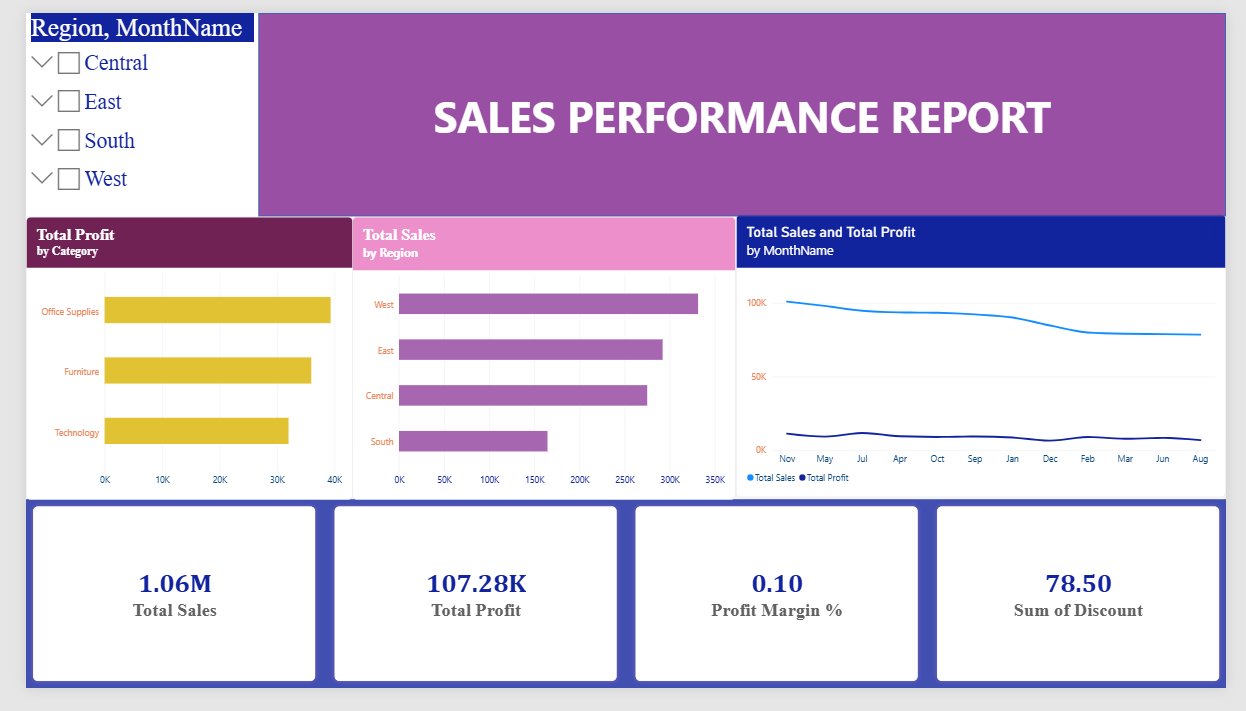

What the dashboard file says about the page in this screenshot:
{"tool":"powerbi","page":{"name":"Page 1","canvas":[1920,1080],"ordinal":0},"visuals":[{"type":"cardVisual","fields":{"Data":["fact_sales.Total Sales","fact_sales.Total Profit","fact_sales.Profit Margin %","Sum(fact_sales.Discount)"]},"box":[0,778,1920.4,302.6],"z":0},{"type":"lineChart","fields":{"Category":["Dim_Date.MonthName"],"Y":["fact_sales.Total Sales","fact_sales.Total Profit"]},"box":[1135.8,321.1,784.2,452.8],"z":1},{"type":"clusteredBarChart","fields":{"Category":["fact_sales.Region"],"Y":["fact_sales.Total Sales"]},"box":[522.8,325.2,613.4,452.8],"z":2},{"type":"clusteredBarChart","fields":{"Category":["fact_sales.Category"],"Y":["fact_sales.Total Profit"]},"box":[0,325.2,522.8,452.8],"z":3},{"type":"slicer","fields":{"Values":["fact_sales.Region","Dim_Date.MonthName"]},"box":[0,0,372.6,325.2],"z":4},{"type":"textbox","box":[551.6,84.4,1292.6,123.5],"z":5},{"type":"shape","box":[372.6,0,1547.9,325.2],"z":6}]}

Visuals, with their boxes in screenshot pixels (x1, y1, x2, y2), scaled from the page's 1920x1080 canvas onto the 1246x711 screenshot:
cardVisual - fact_sales.Total Sales x fact_sales.Total Profit: [x1=0, y1=512, x2=1245, y2=710]
lineChart - Dim_Date.MonthName x fact_sales.Total Sales: [x1=737, y1=211, x2=1245, y2=509]
clusteredBarChart - fact_sales.Region x fact_sales.Total Sales: [x1=339, y1=214, x2=737, y2=512]
clusteredBarChart - fact_sales.Category x fact_sales.Total Profit: [x1=0, y1=214, x2=339, y2=512]
slicer - fact_sales.Region x Dim_Date.MonthName: [x1=0, y1=0, x2=242, y2=214]
textbox: [x1=358, y1=56, x2=1197, y2=137]
shape: [x1=242, y1=0, x2=1245, y2=214]
